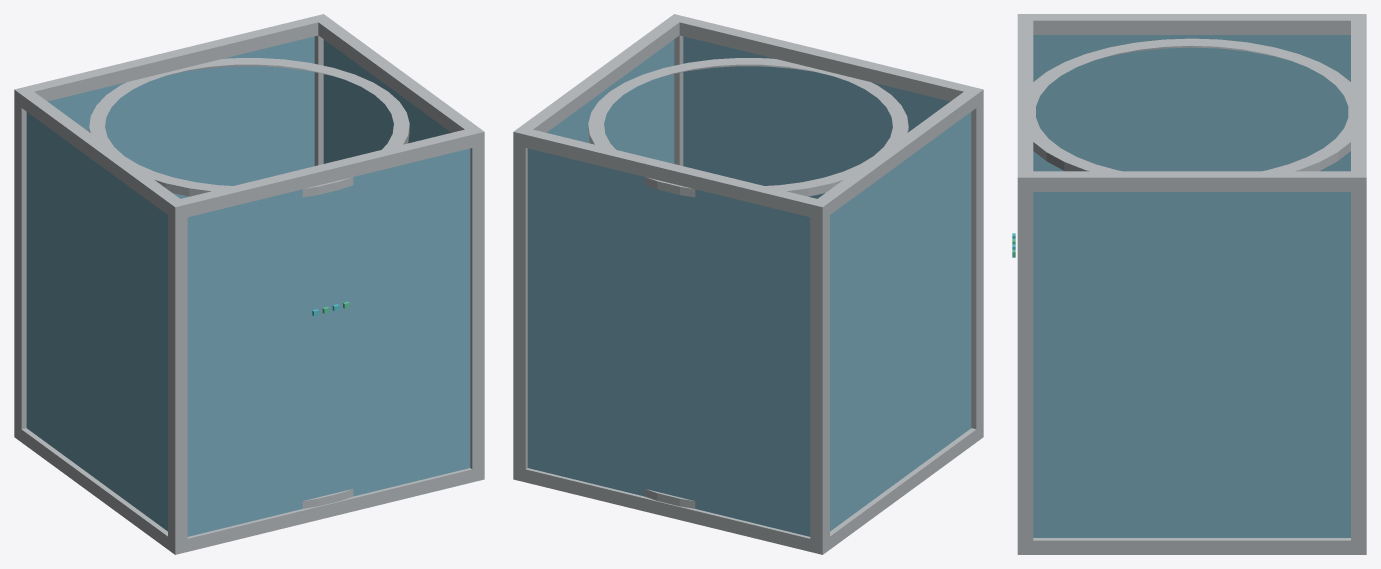
The model's file is 11_L79_PrecisionWaferLoadLock.glb.
3 renders of one model, left to right at view 1: azimuth 30°, elevation 25°; view 2: azimuth 150°, elevation 25°; view 3: azimuth 270°, elevation 25°, orthographic. The views are drawn at different scales.
Parts seen in each view (by area): view 1: PrecisionWaferLoadLock_Node_0013, PrecisionWaferLoadLock_Node_0014, PrecisionWaferLoadLock_Node_0012, PrecisionWaferLoadLock_Node_0001, PrecisionWaferLoadLock_Node_0015, PrecisionWaferLoadLock_Node_0009, PrecisionWaferLoadLock_Node_0008, PrecisionWaferLoadLock_Node_0050, PrecisionWaferLoadLock_Node_0003, PrecisionWaferLoadLock_Node_0005, PrecisionWaferLoadLock_Node_0000, PrecisionWaferLoadLock_Node_0010 (+3 smaller); view 2: PrecisionWaferLoadLock_Node_0012, PrecisionWaferLoadLock_Node_0014, PrecisionWaferLoadLock_Node_0013, PrecisionWaferLoadLock_Node_0000, PrecisionWaferLoadLock_Node_0015, PrecisionWaferLoadLock_Node_0008, PrecisionWaferLoadLock_Node_0009, PrecisionWaferLoadLock_Node_0050, PrecisionWaferLoadLock_Node_0002, PrecisionWaferLoadLock_Node_0004, PrecisionWaferLoadLock_Node_0001, PrecisionWaferLoadLock_Node_0010 (+3 smaller); view 3: PrecisionWaferLoadLock_Node_0015, PrecisionWaferLoadLock_Node_0014, PrecisionWaferLoadLock_Node_0011, PrecisionWaferLoadLock_Node_0010, PrecisionWaferLoadLock_Node_0003, PrecisionWaferLoadLock_Node_0050, PrecisionWaferLoadLock_Node_0002, PrecisionWaferLoadLock_Node_0007, PrecisionWaferLoadLock_Node_0009, PrecisionWaferLoadLock_Node_0008.
Part boxes in pixels (<box>): PrecisionWaferLoadLock_Node_0013: <box>187,148,470,536</box>; PrecisionWaferLoadLock_Node_0014: <box>26,112,167,531</box>; PrecisionWaferLoadLock_Node_0012: <box>47,36,314,198</box>; PrecisionWaferLoadLock_Node_0001: <box>168,199,187,554</box>; PrecisionWaferLoadLock_Node_0015: <box>323,39,451,163</box>; PrecisionWaferLoadLock_Node_0009: <box>168,127,484,219</box>; PrecisionWaferLoadLock_Node_0008: <box>14,14,327,107</box>; PrecisionWaferLoadLock_Node_0050: <box>89,58,409,197</box>; PrecisionWaferLoadLock_Node_0003: <box>468,126,484,481</box>; PrecisionWaferLoadLock_Node_0005: <box>168,467,484,554</box>; PrecisionWaferLoadLock_Node_0000: <box>14,86,27,441</box>; PrecisionWaferLoadLock_Node_0010: <box>14,88,187,219</box>; PrecisionWaferLoadLock_Node_0012: <box>527,148,810,536</box>; PrecisionWaferLoadLock_Node_0014: <box>830,112,971,531</box>; PrecisionWaferLoadLock_Node_0013: <box>683,36,950,198</box>; PrecisionWaferLoadLock_Node_0000: <box>810,199,829,554</box>; PrecisionWaferLoadLock_Node_0015: <box>546,39,674,163</box>; PrecisionWaferLoadLock_Node_0008: <box>513,129,829,219</box>; PrecisionWaferLoadLock_Node_0009: <box>669,14,983,107</box>; PrecisionWaferLoadLock_Node_0050: <box>588,58,908,197</box>; PrecisionWaferLoadLock_Node_0002: <box>513,126,531,482</box>; PrecisionWaferLoadLock_Node_0004: <box>513,466,829,554</box>; PrecisionWaferLoadLock_Node_0001: <box>964,86,983,442</box>; PrecisionWaferLoadLock_Node_0010: <box>815,86,980,218</box>; PrecisionWaferLoadLock_Node_0015: <box>1033,192,1350,537</box>; PrecisionWaferLoadLock_Node_0014: <box>1033,35,1350,171</box>; PrecisionWaferLoadLock_Node_0011: <box>1018,171,1366,191</box>; PrecisionWaferLoadLock_Node_0010: <box>1019,14,1364,34</box>; PrecisionWaferLoadLock_Node_0003: <box>1017,171,1033,554</box>; PrecisionWaferLoadLock_Node_0050: <box>1033,38,1350,171</box>; PrecisionWaferLoadLock_Node_0002: <box>1351,171,1366,554</box>; PrecisionWaferLoadLock_Node_0007: <box>1019,538,1366,554</box>; PrecisionWaferLoadLock_Node_0009: <box>1017,14,1033,187</box>; PrecisionWaferLoadLock_Node_0008: <box>1351,14,1366,182</box>.
Size of the model in its own units: 2.72 by 2.92 by 2.49.
